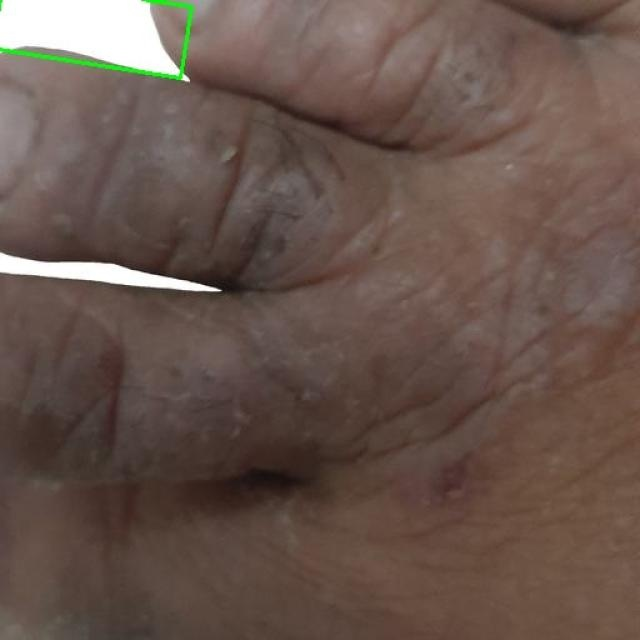Eczema: (0, 0, 193, 78)
